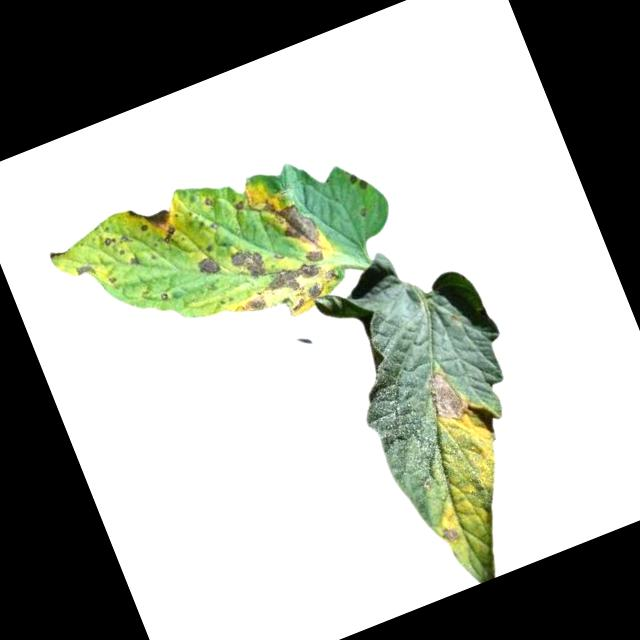Early_blight: (227, 243, 346, 336), (258, 183, 326, 259), (126, 195, 182, 252), (418, 365, 470, 424), (227, 239, 272, 281), (195, 250, 222, 279), (101, 225, 130, 249), (439, 522, 467, 545), (347, 169, 368, 192), (72, 260, 95, 279), (126, 250, 142, 268), (233, 197, 247, 211)
